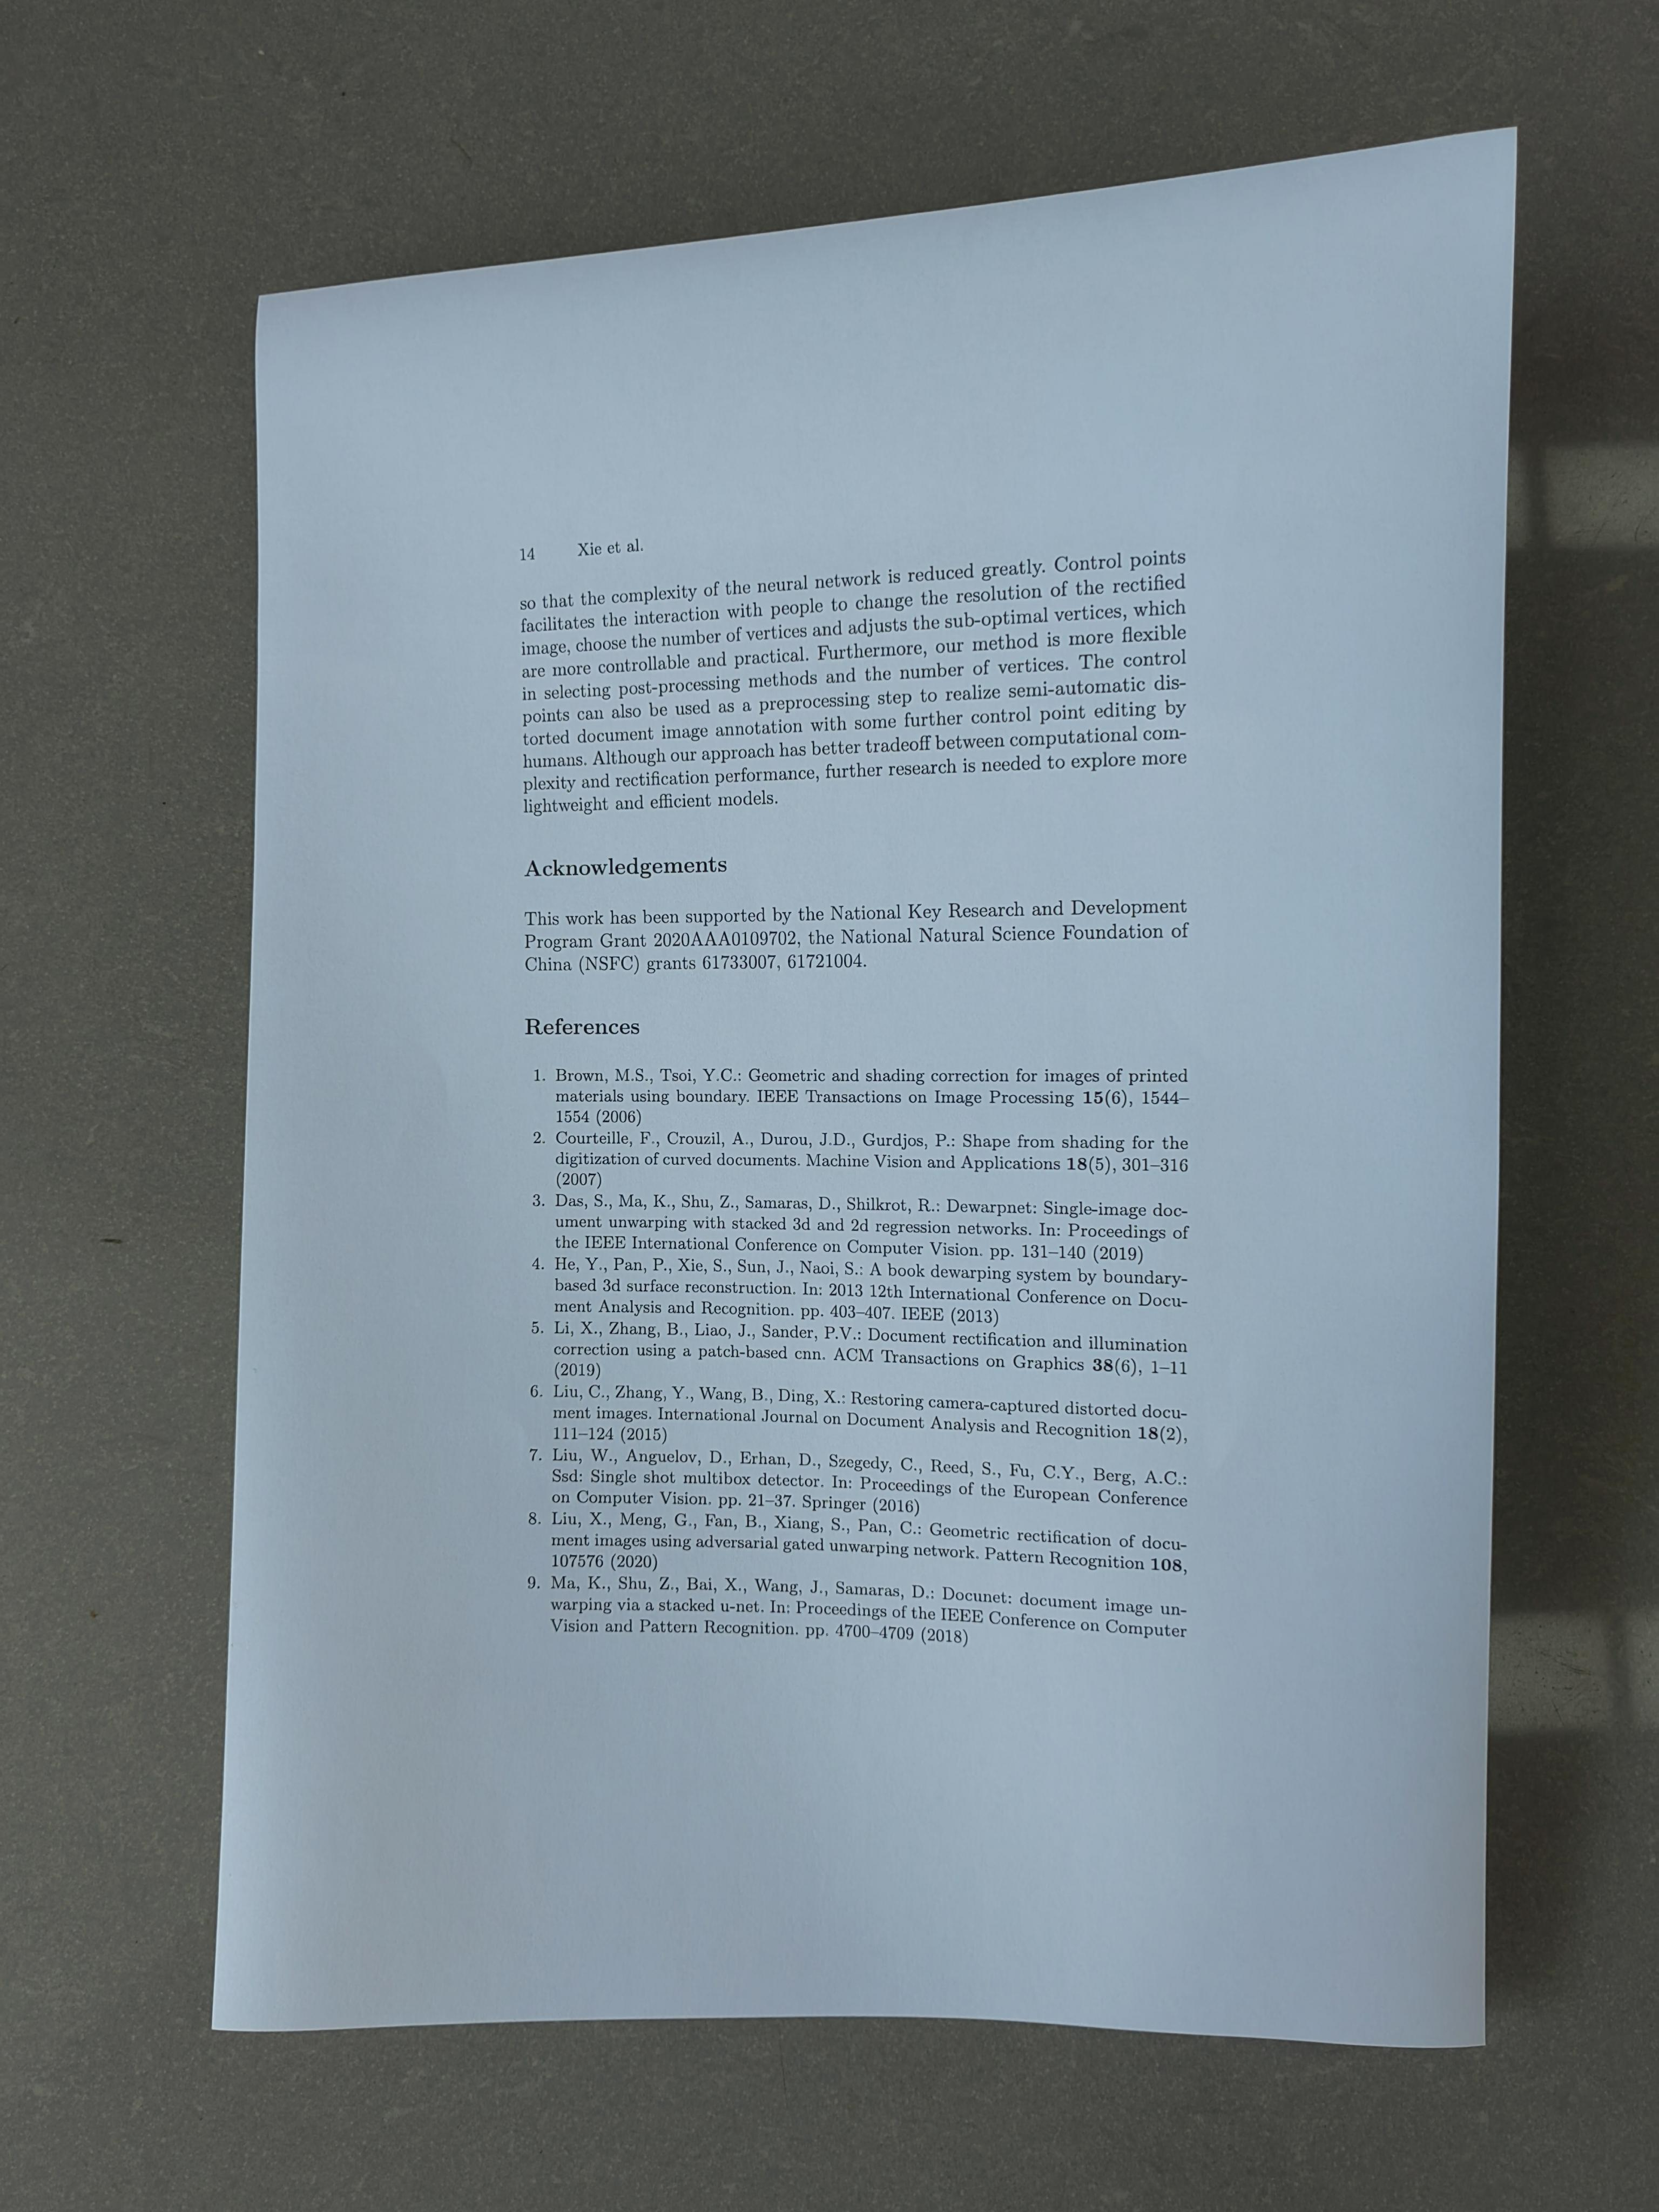paper: (105, 138, 1659, 2212)
